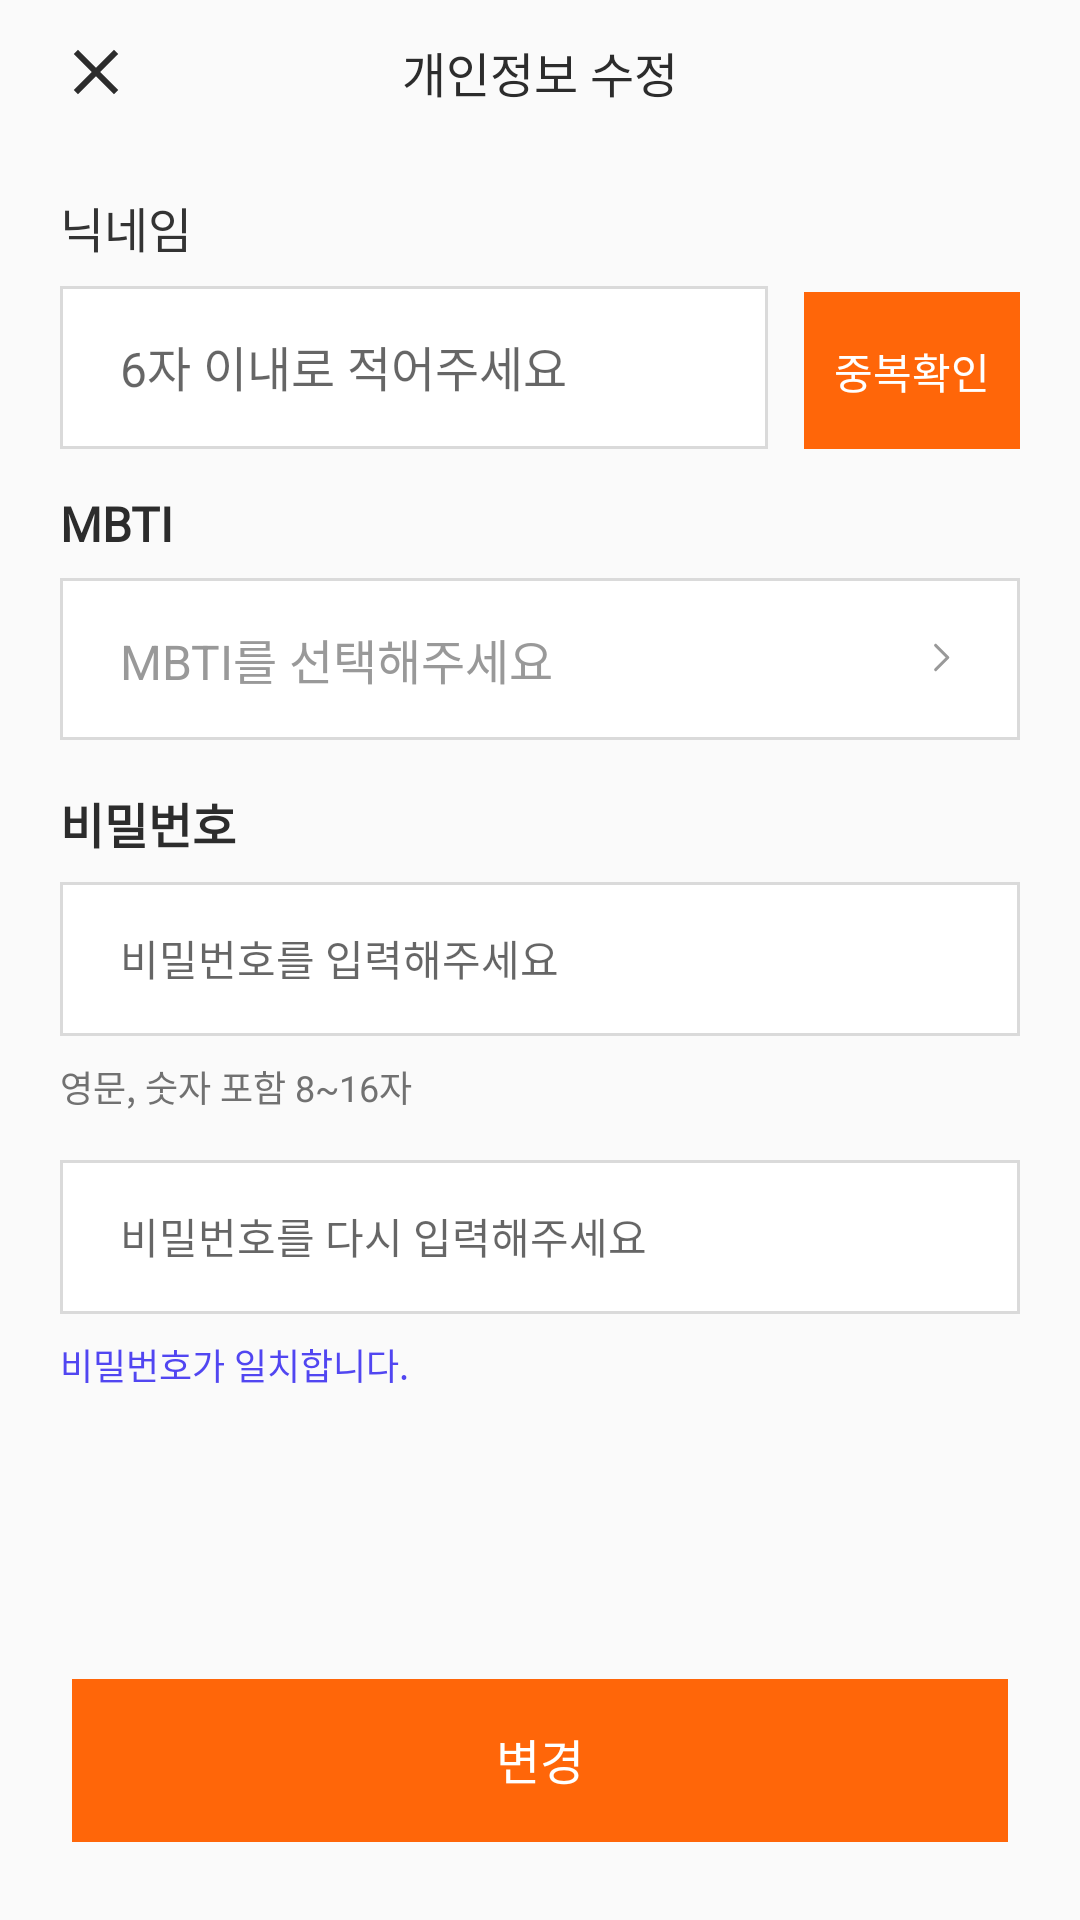

Point at icon controls on the screen. Image size 1080w x 1920h, points as point (x, y).
arrow: point (942, 657)
close: point (96, 72)
